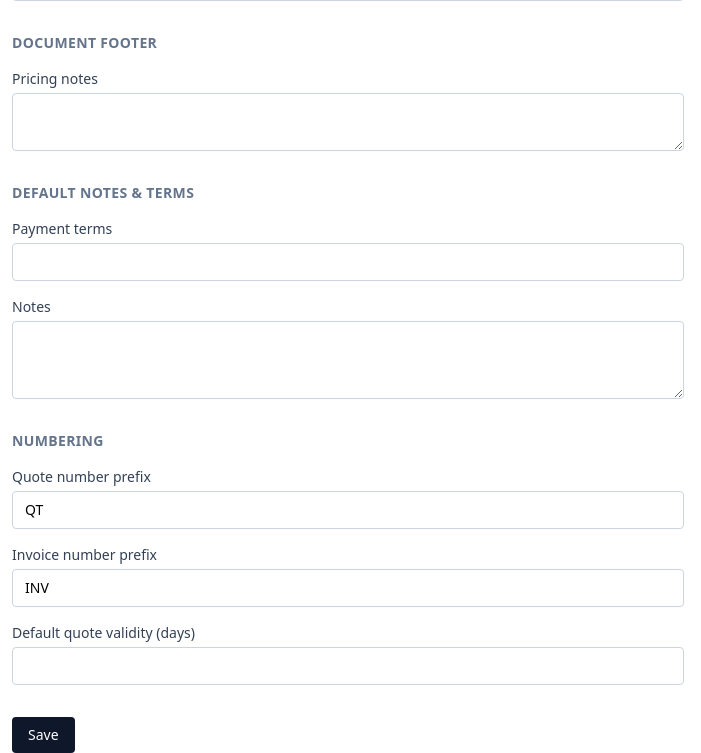
Test: CompanyProfilePage › shows the server error message when saving fails
(page scrolled)
Click the button "Save". click: [43, 735]
box: [12,717,75,752]
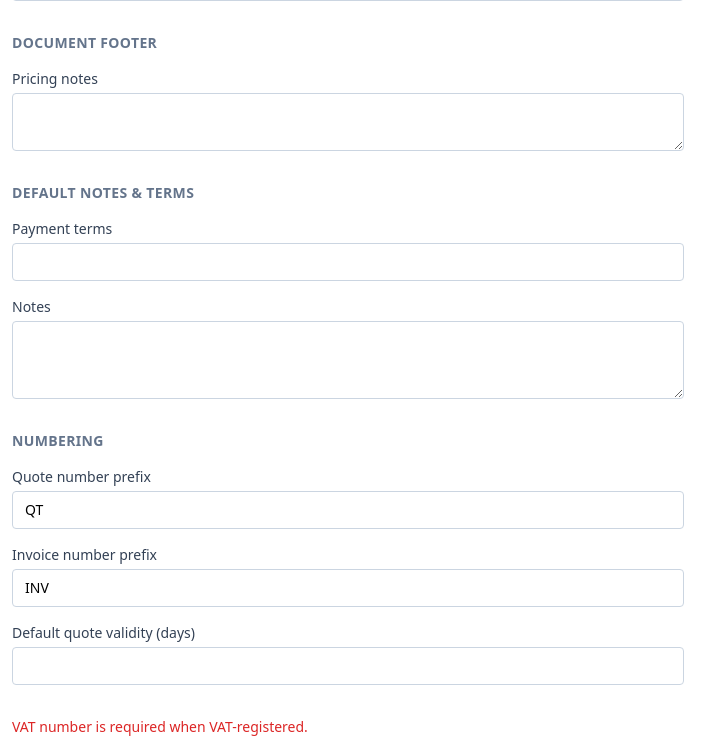
Expected: the text "VAT number is required when VAT-registered." is shown, [12,717,308,736]
